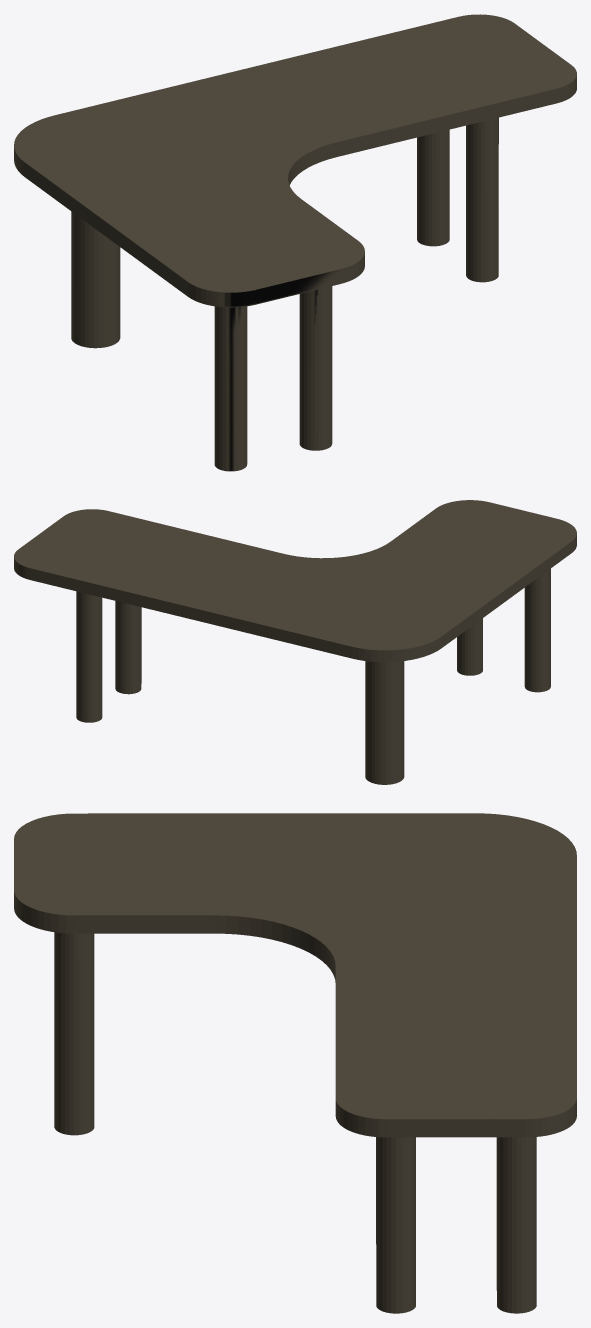
The model's file is table.fbx.
3 renders of one model, top to bottom at view 1: azimuth 30°, elevation 25°; view 2: azimuth 150°, elevation 25°; view 3: azimuth 270°, elevation 25°, orthographic. The views are drawn at different scales.
Parts seen in each view (by area): view 1: Table; view 2: Table; view 3: Table.
Boxes of the visible parts, x1=… form: Table: x1=14, y1=14, x2=576, y2=471; Table: x1=14, y1=500, x2=576, y2=784; Table: x1=14, y1=813, x2=576, y2=1313.
Bounding box in the file's own units: 18000 × 6507 × 14000.
1 material, 1 textured.
